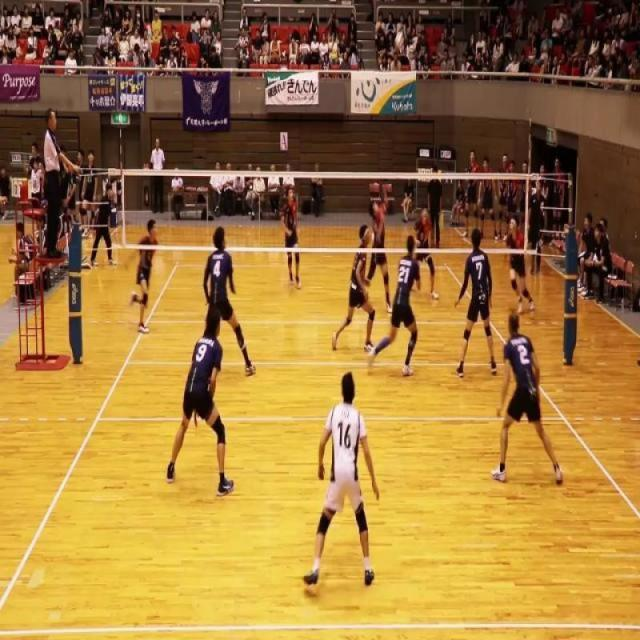volleyball: (394, 31, 404, 50)
